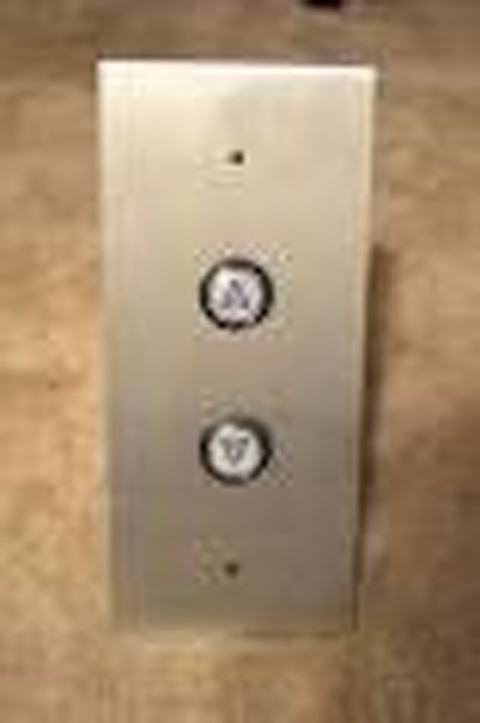down: (198, 418, 270, 486)
up: (200, 255, 273, 331)
